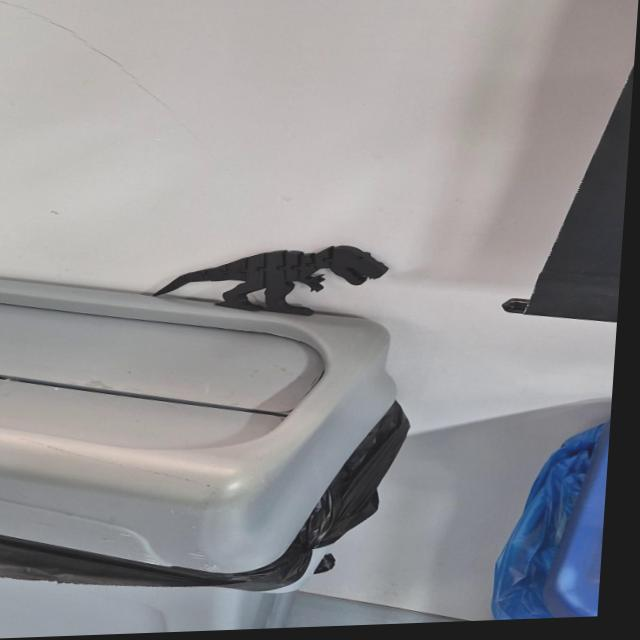dino: (149, 243, 392, 322)
